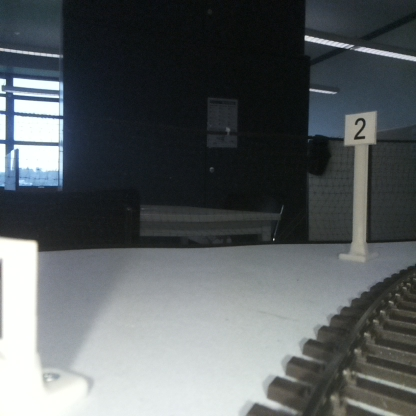white-info-2: (344, 112, 375, 257)
